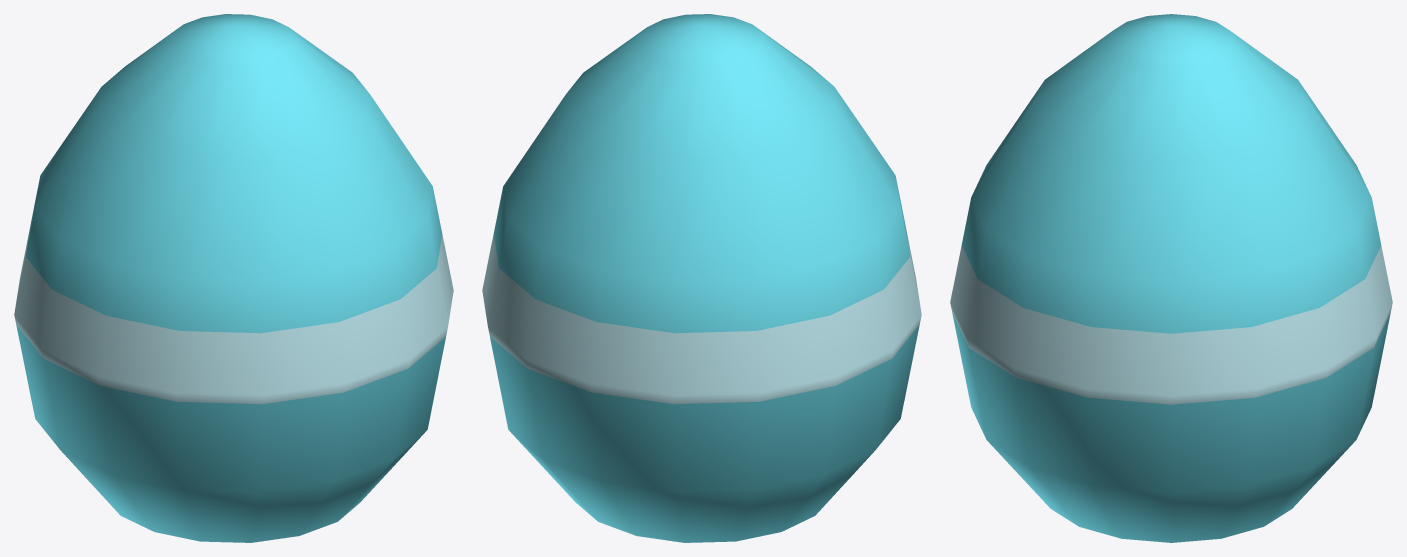
File: DiamondEgg.fbx
3 views of the same model, side by side, from view 1: azimuth 30°, elevation 25°; view 2: azimuth 150°, elevation 25°; view 3: azimuth 270°, elevation 25° (orthographic).
Visible parts, largest first — view 1: DiamondEgg; view 2: DiamondEgg; view 3: DiamondEgg.
Part boxes in pixels (left/top/right/bottom): DiamondEgg: left=14, top=14, right=453, bottom=542; DiamondEgg: left=482, top=14, right=921, bottom=542; DiamondEgg: left=950, top=14, right=1392, bottom=542.
Size of the model in its own units: 2.1 by 2.5 by 2.1.
1 material, 1 textured.
